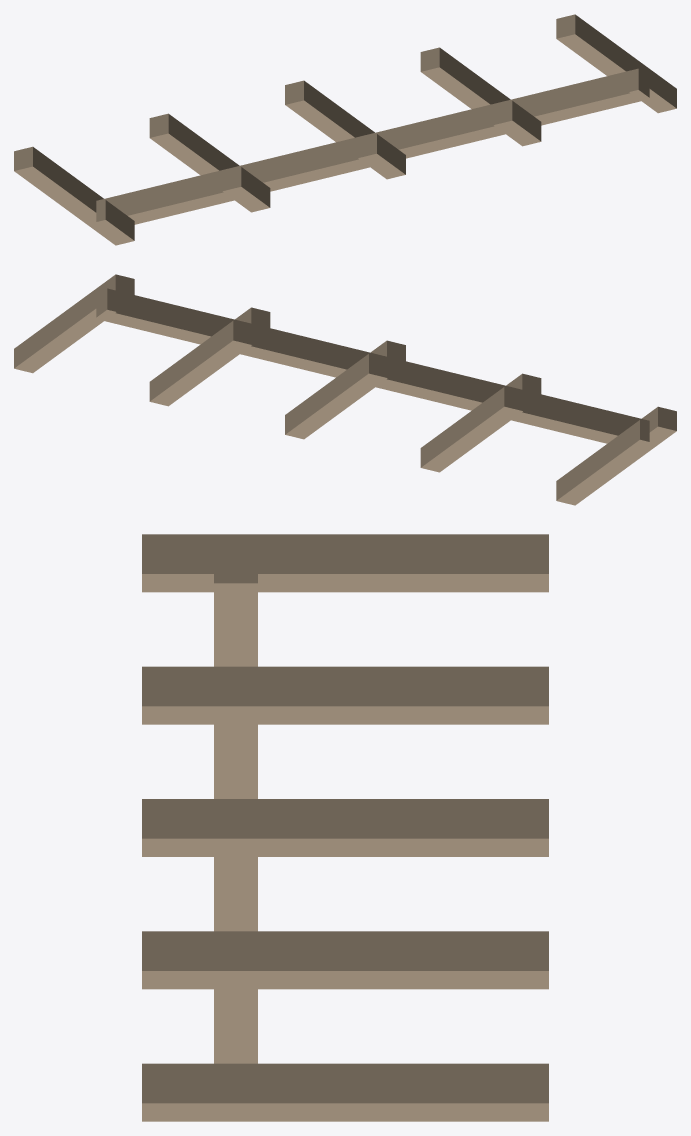
The model's file is wood_fence.glb.
The picture shows the model from 3 angles, top to bottom: view 1: azimuth 30°, elevation 25°; view 2: azimuth 150°, elevation 25°; view 3: azimuth 270°, elevation 25°; orthographic projection. The views are drawn at different scales.
Visible parts, largest first — view 1: world; view 2: world; view 3: world.
Boxes of the visible parts, x1,y1,x2,y2 form: world: [14, 14, 676, 245]; world: [14, 274, 676, 505]; world: [142, 534, 548, 1121].
Size of the model in its own units: 4.14 by 0.16 by 1.3.
